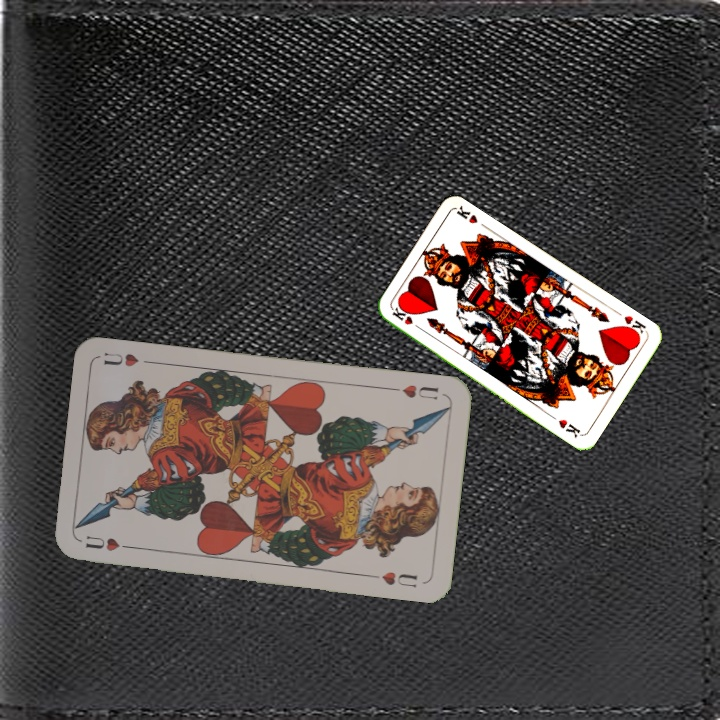HK: (388, 303, 425, 333), (618, 311, 649, 340)
HU: (81, 531, 137, 554), (387, 380, 441, 402)
